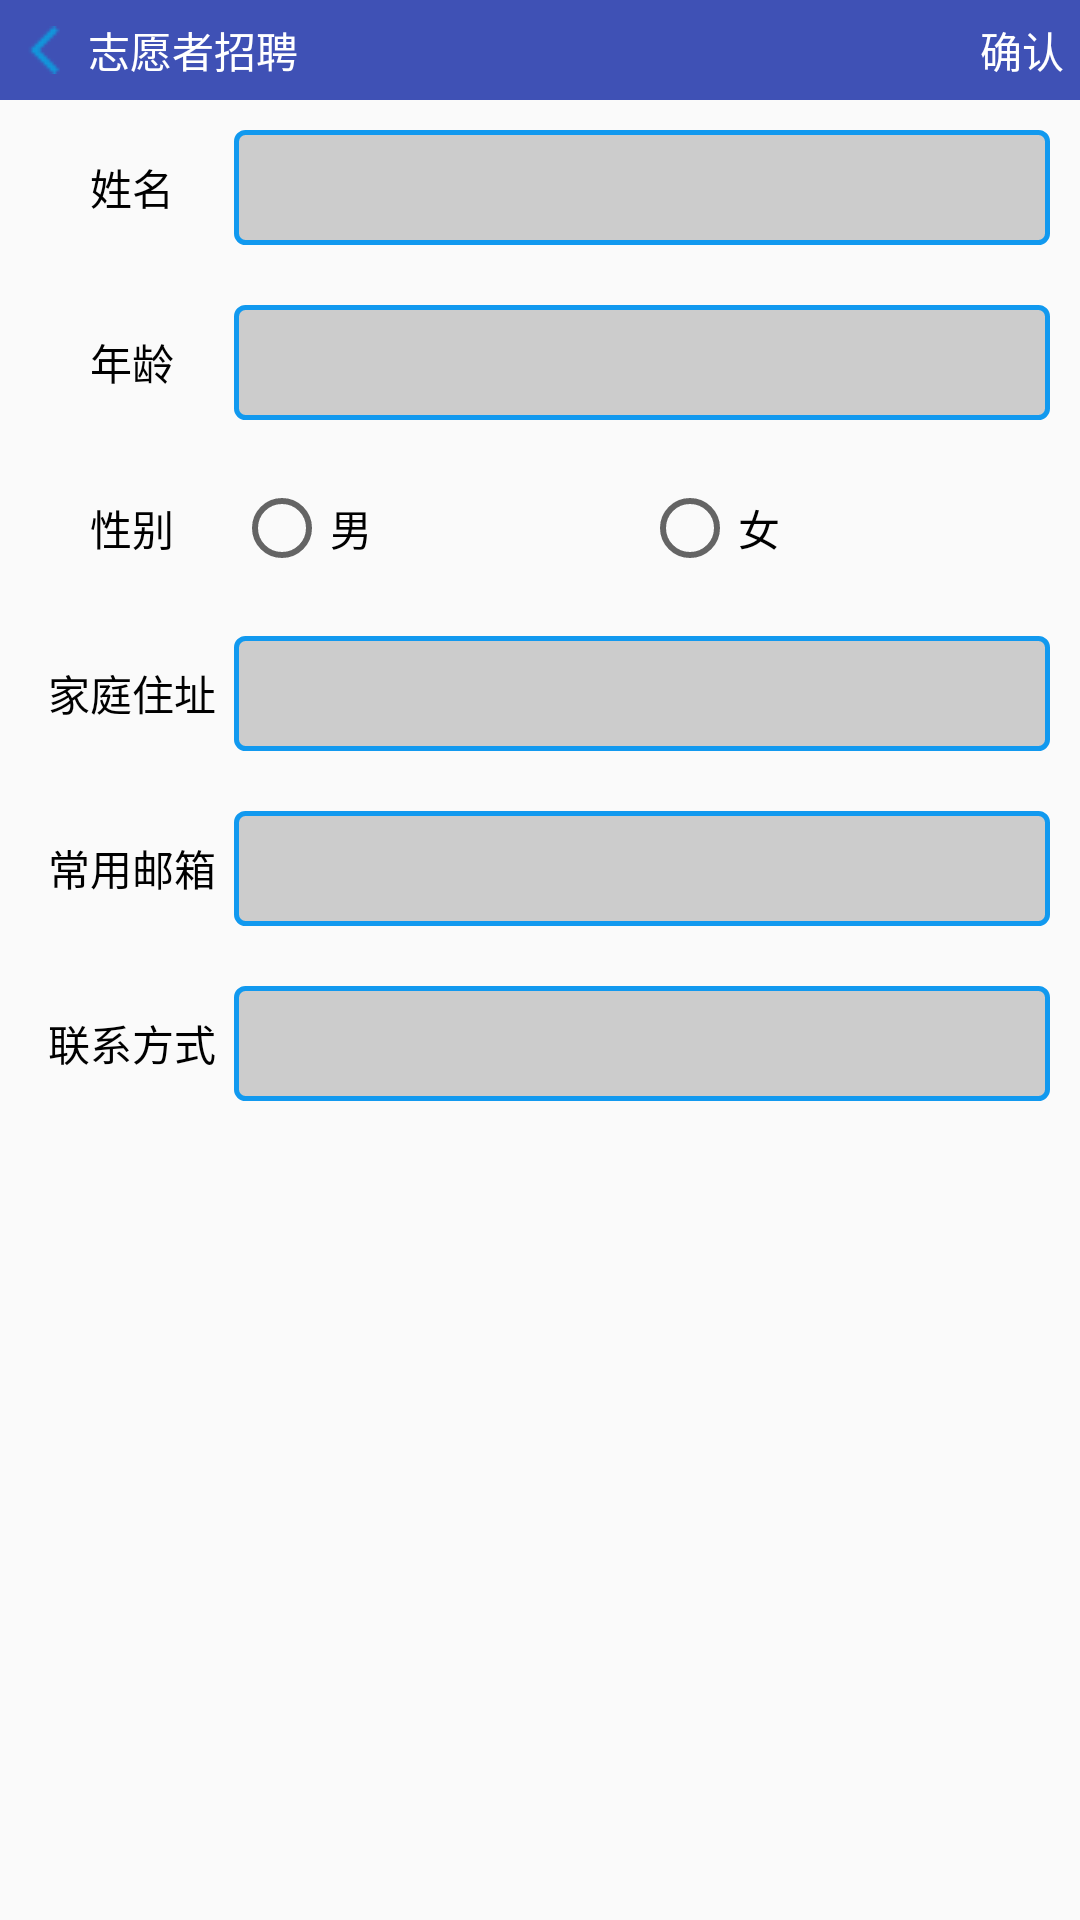

Named icons in this screenshot (1080px x 1920px) and their centers, (x=x, y=y):
backarrow: (x=45, y=50)
